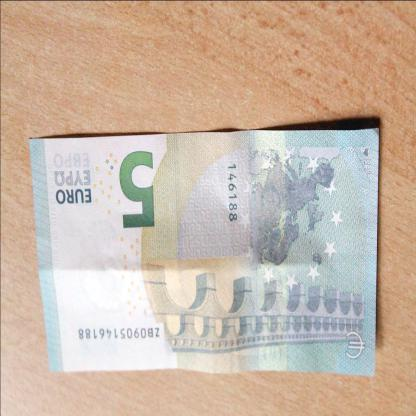euro_banknote: (29, 125, 378, 376)
